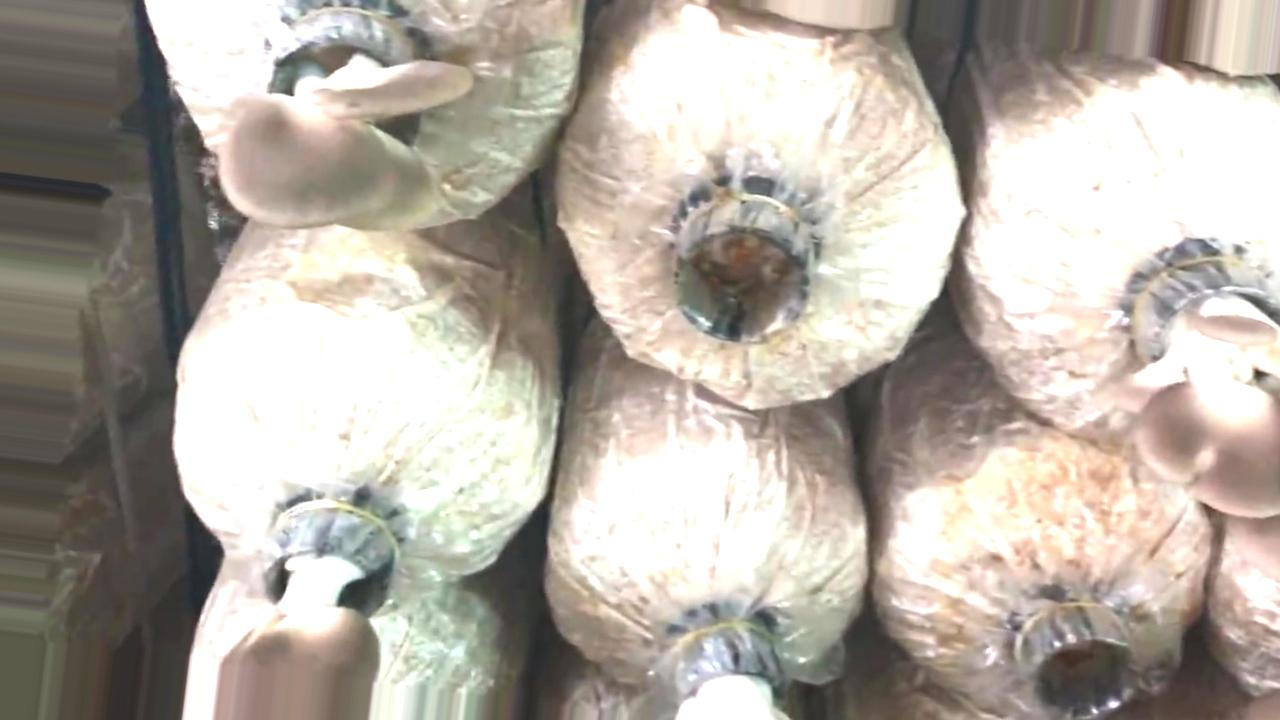nam: (211, 18, 484, 245), (1116, 249, 1280, 516), (218, 492, 398, 720)
